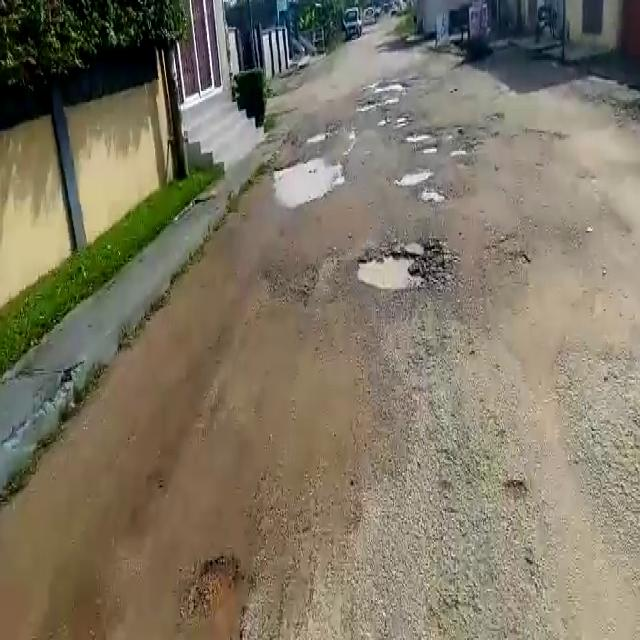Pothole: (191, 552, 254, 640), (354, 241, 444, 295), (274, 155, 346, 205), (390, 166, 432, 186), (381, 110, 416, 126), (399, 130, 438, 142), (420, 190, 447, 207), (452, 146, 467, 159), (421, 146, 439, 154)
